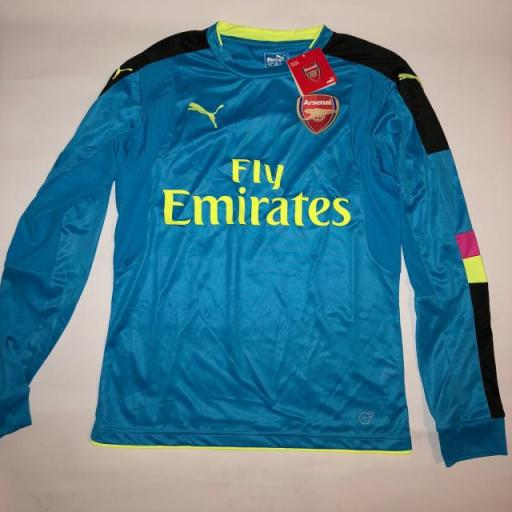Emirates: (162, 154, 354, 232)
